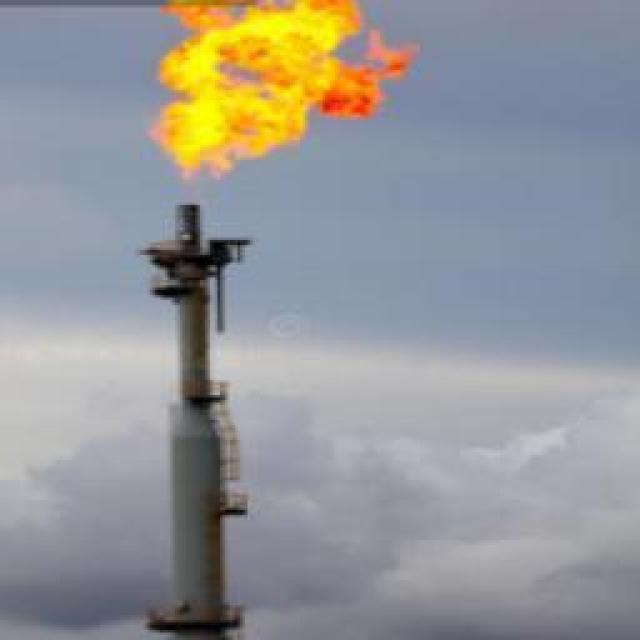fire: (148, 0, 419, 182)
